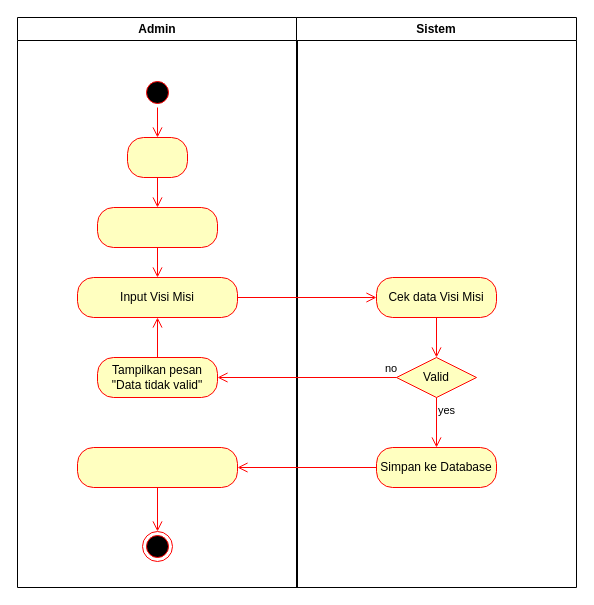
This 594x605 diagram has some shape labels left out. The box of each missing label's shape, as (x1, y1, x2, y2) in pixels:
Buka menu Visi Misi: (96, 206, 218, 248)
Login: (126, 136, 188, 178)
Tampilkan pesan "Visi Misi Berhasil Disimpan ": (76, 446, 238, 488)
